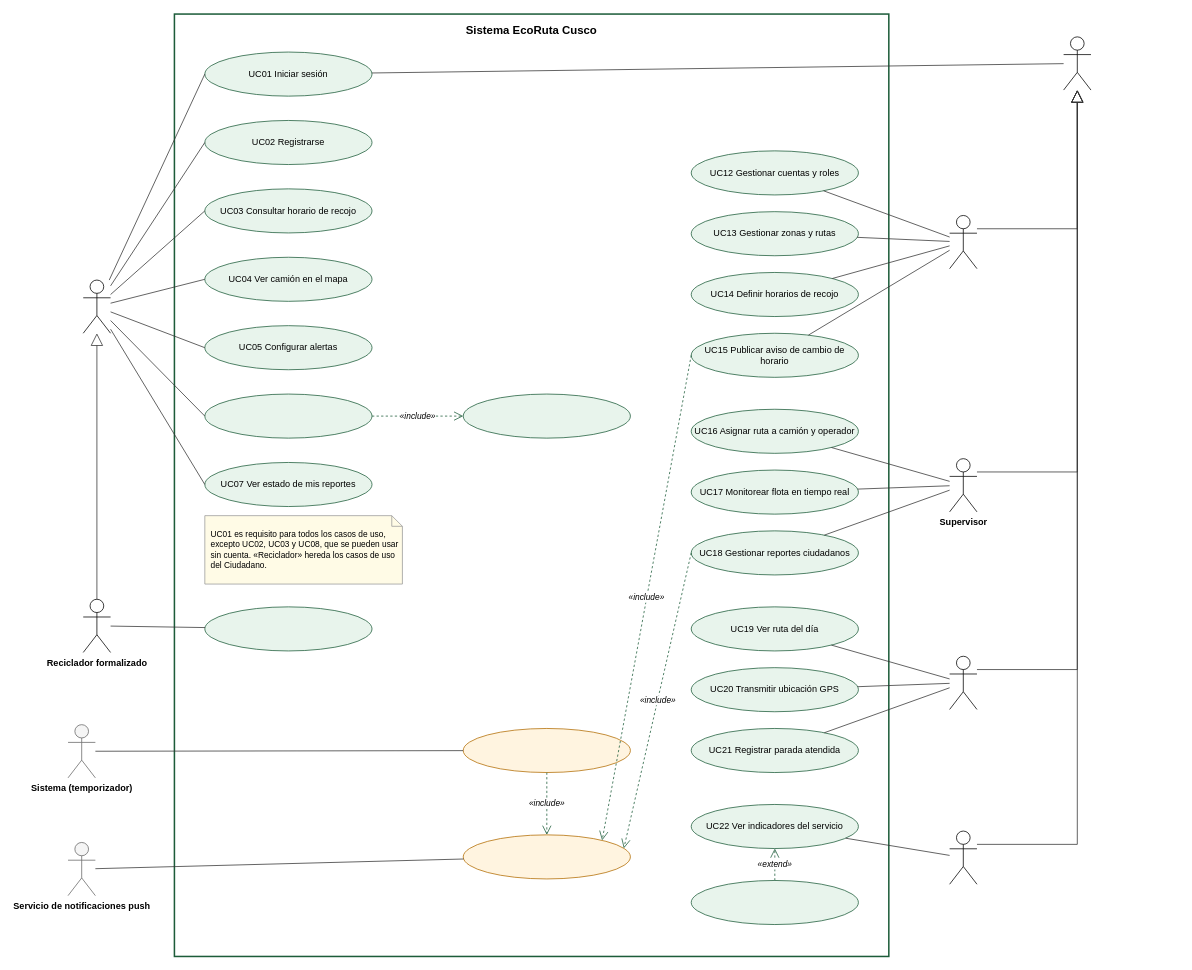
Some shapes in this 1192 by 970 pixel diagram are drawn without their labels. The centre of each missing label's shape, as x and y in pixels:
"Administrador municipal" goes at point 963,242.
"Ciudadano" goes at point 96,306.
"Gerente de limpieza pública" goes at point 963,857.
"Operador de camión" goes at point 963,682.
"Personal municipal" goes at point 1077,63.
"UC06 Reportar basura acumulada" goes at point 288,415.
"UC08 Consultar puntos de reciclaje" goes at point 288,628.
"UC09 Adjuntar foto y ubicación" goes at point 546,415.
"UC10 Enviar alerta de camión cercano" goes at point 546,750.
"UC11 Enviar notificación" goes at point 546,856.
"UC23 Exportar indicadores" goes at point 774,902.
